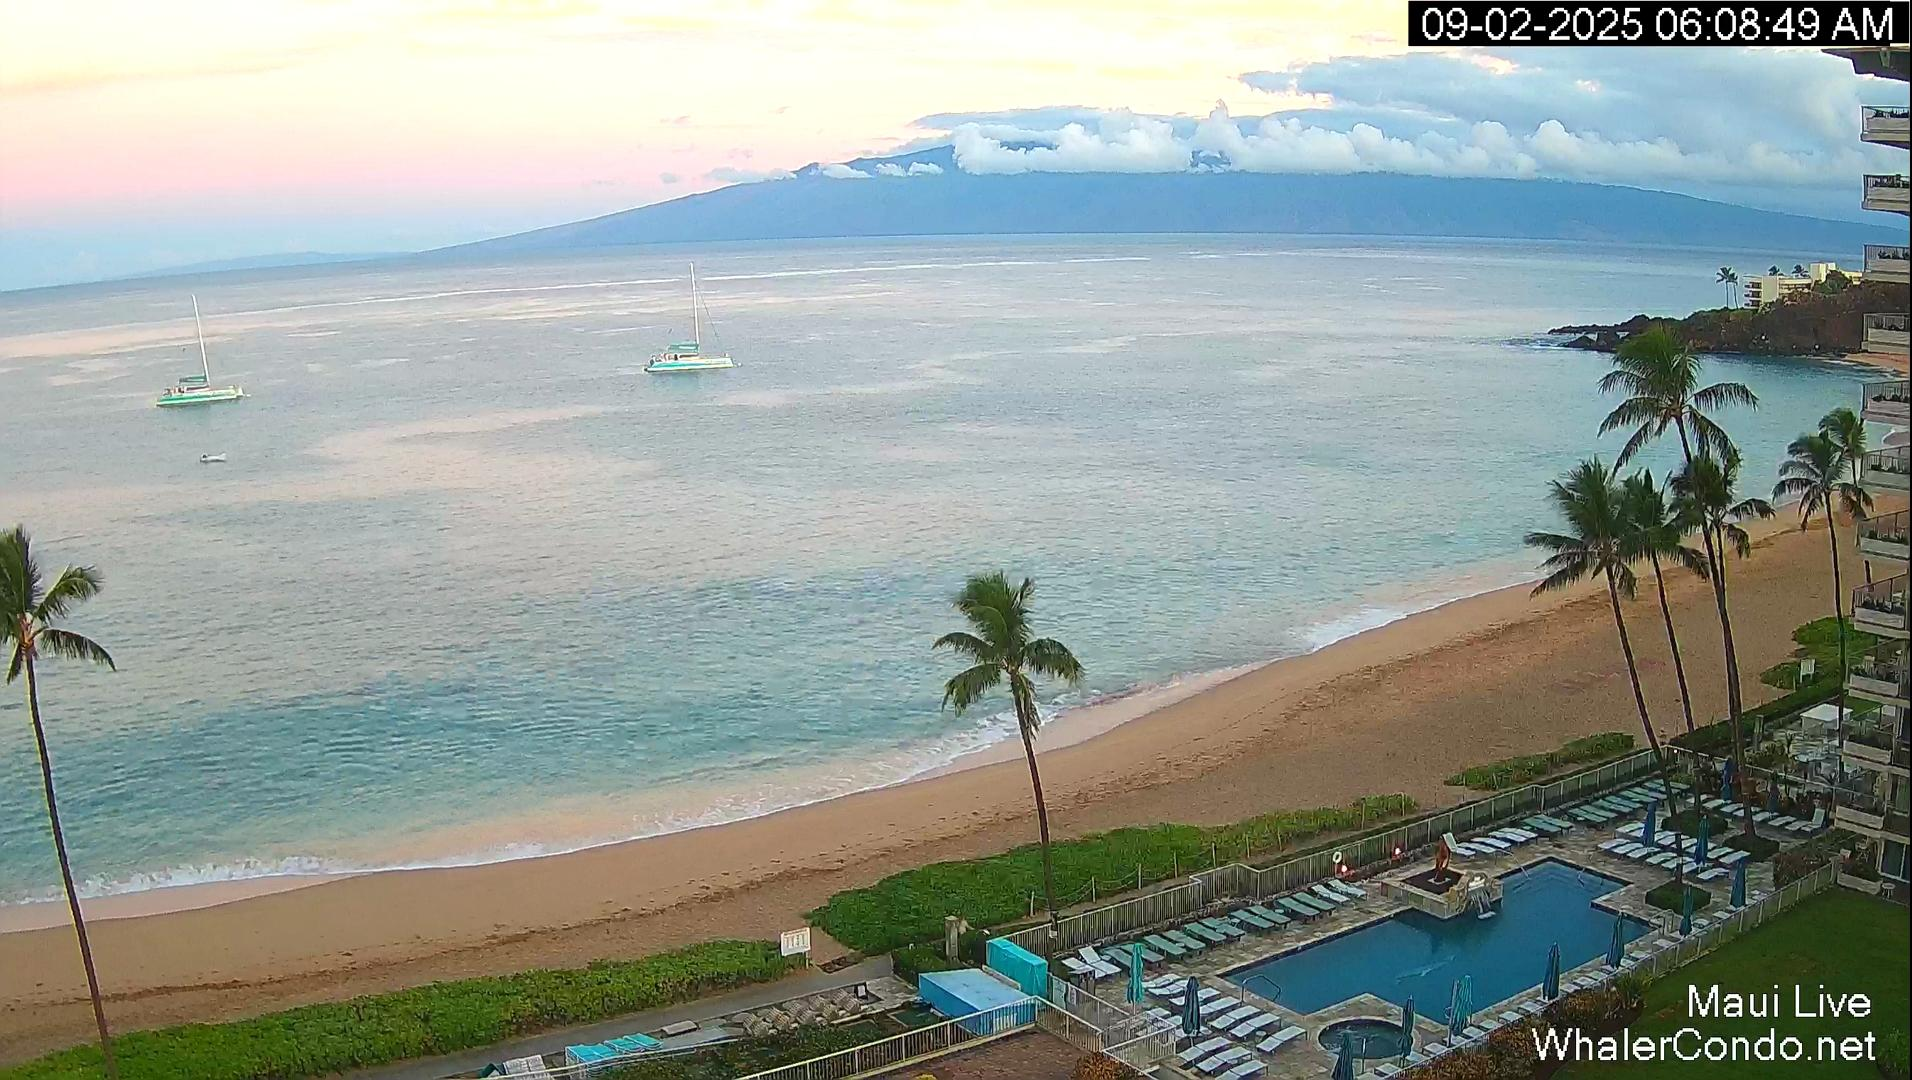boat: (644, 262, 736, 374), (156, 294, 246, 407), (200, 451, 227, 463)
person: (1658, 726, 1667, 743)
